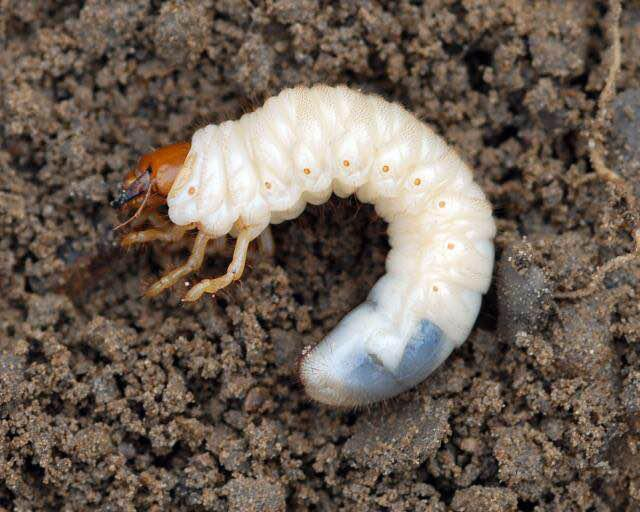grub: (115, 82, 498, 413)
